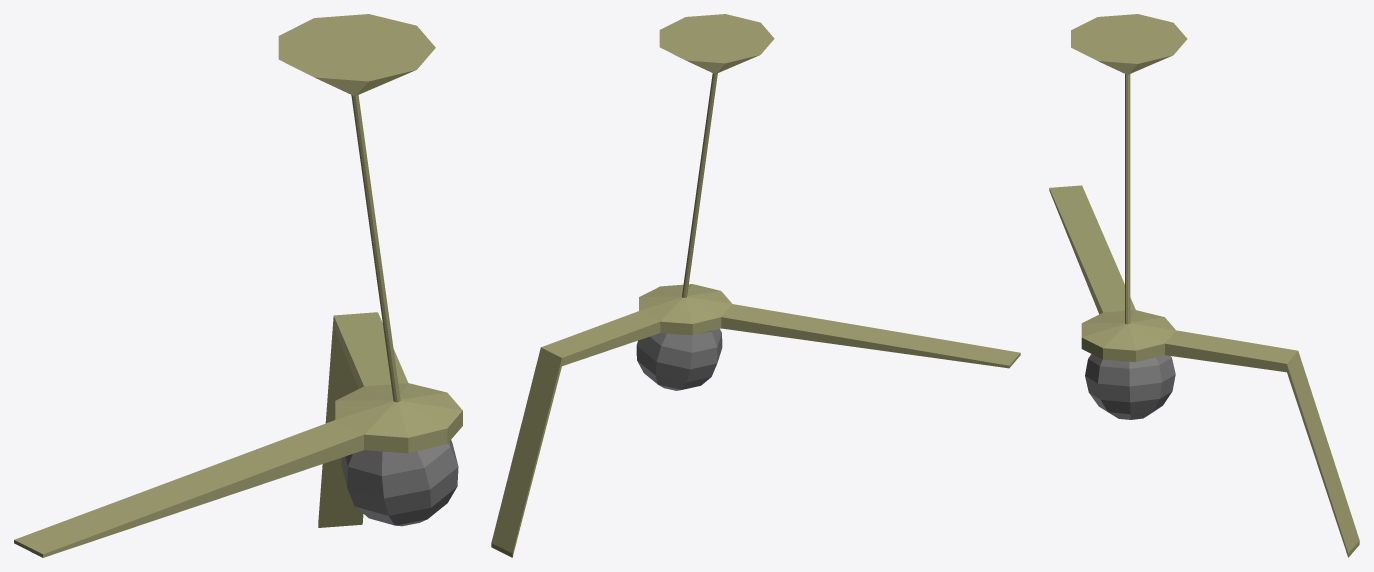
Rendered from fan.obj.
3 views of the same model, side by side, from view 1: azimuth 30°, elevation 25°; view 2: azimuth 150°, elevation 25°; view 3: azimuth 270°, elevation 25° (orthographic). The views are drawn at different scales.
Visible parts, largest first — view 1: Cylinder; view 2: Cylinder; view 3: Cylinder.
Part boxes in pixels (box(x1,y1,x2,y2)): Cylinder: box(14, 14, 462, 557); Cylinder: box(491, 14, 1020, 557); Cylinder: box(1049, 14, 1359, 557).
Bounding box in the file's own units: 0.4864 × 0.5493 × 0.3343.
